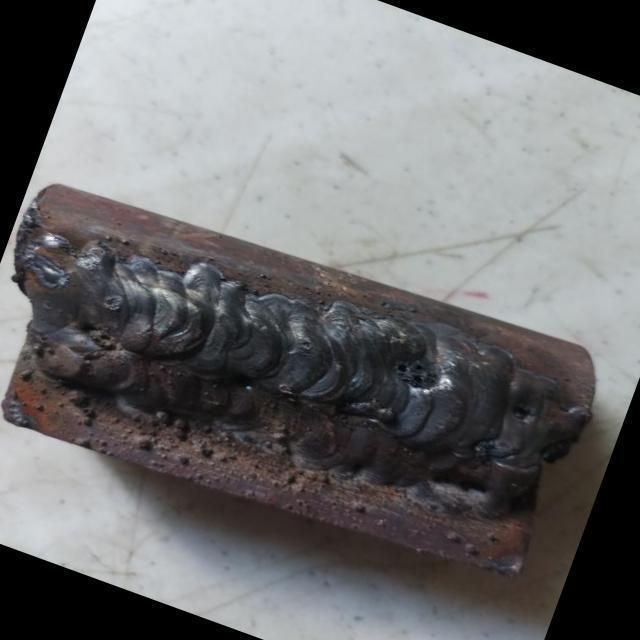defect: (388, 351, 446, 395), (79, 324, 120, 351), (466, 438, 502, 464), (503, 400, 536, 425), (102, 294, 125, 314), (298, 339, 318, 358)
